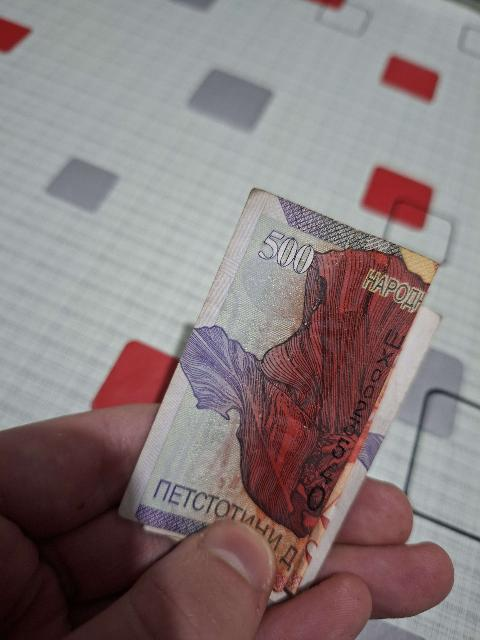500_note: (121, 191, 437, 593)
